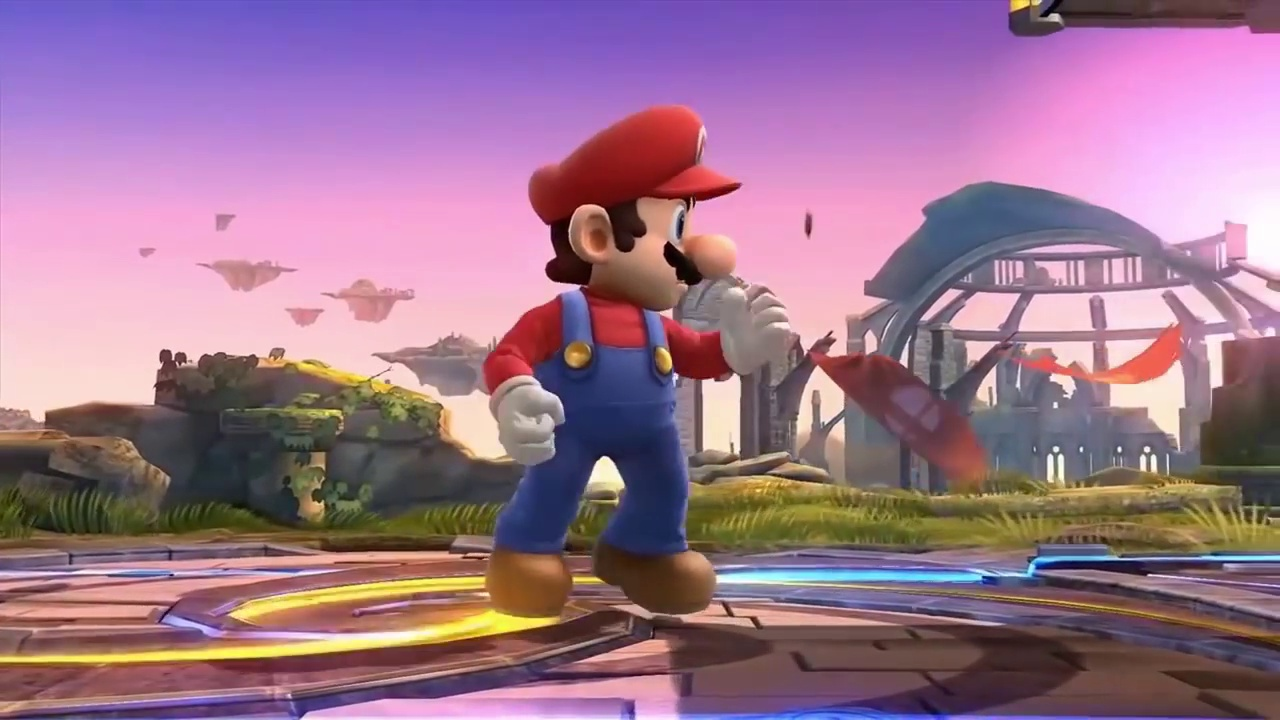Mario: (485, 103, 792, 613)
